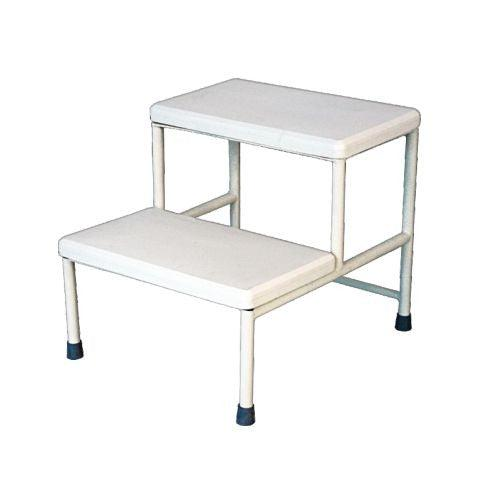stool: (53, 66, 425, 431)
